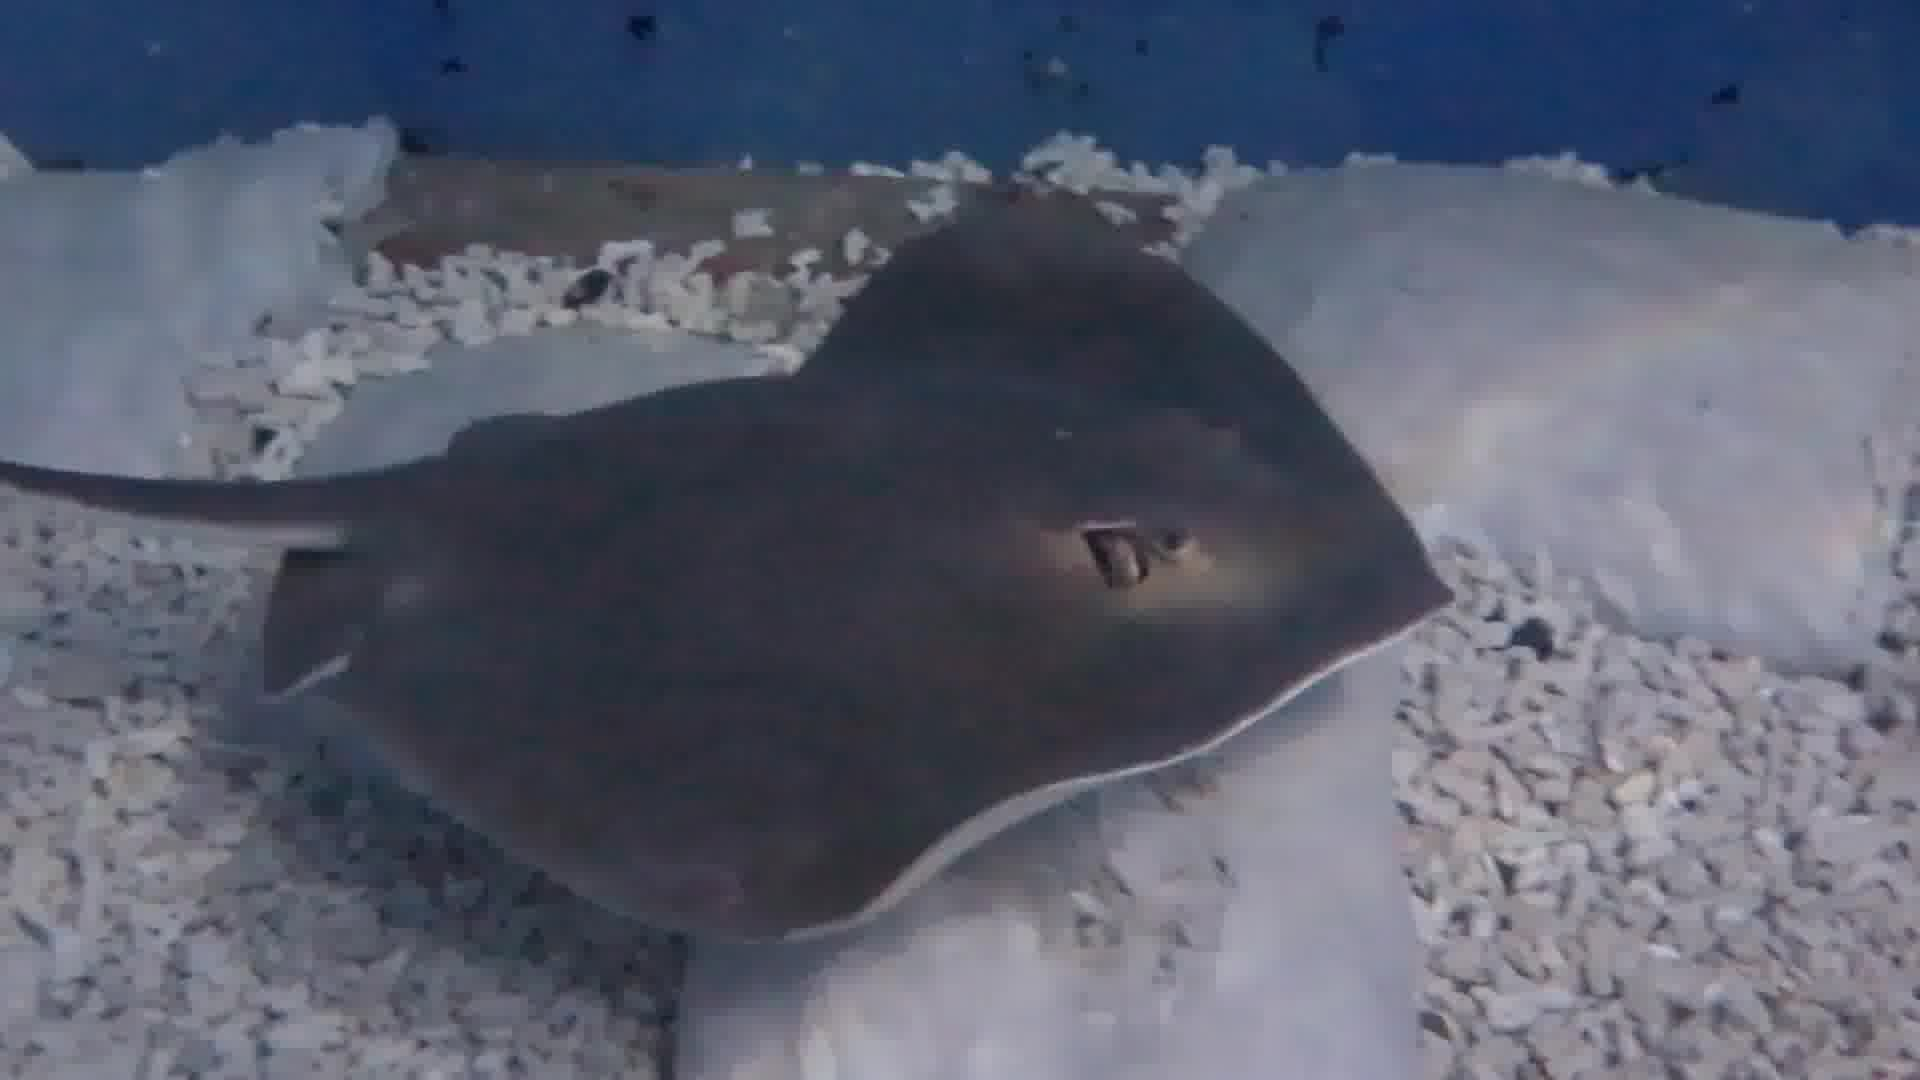Dasyatis bennetti: (291, 141, 1465, 986)
